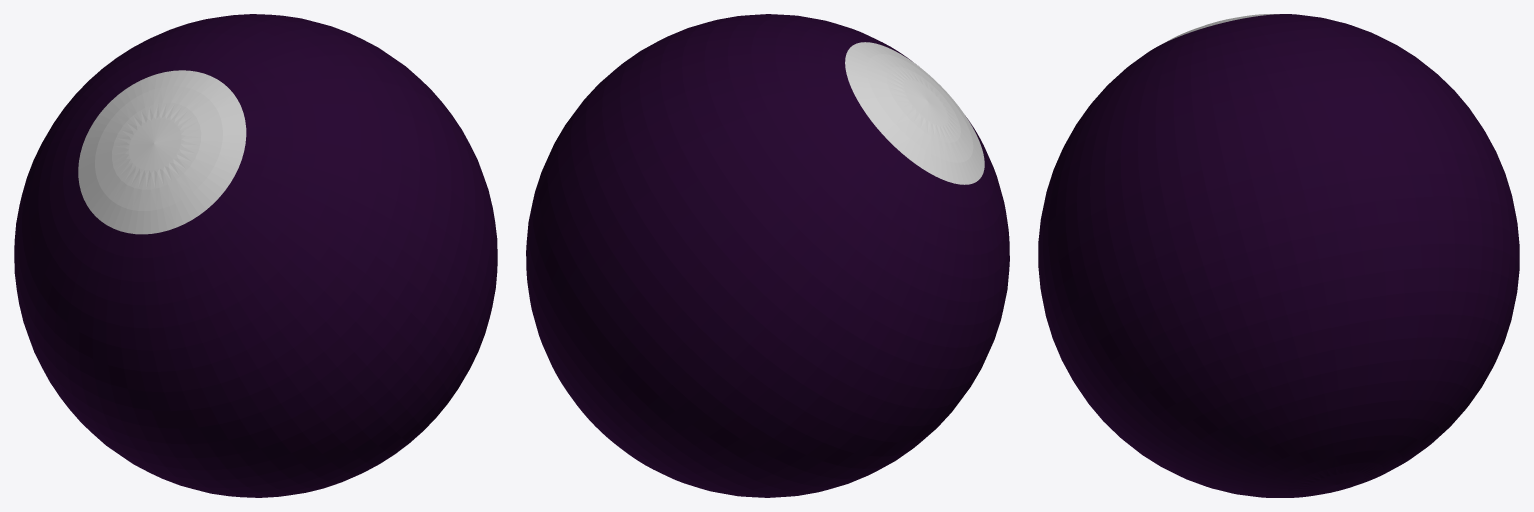
The model's file is 4_ball.obj.
3 views of the same model, side by side, from view 1: azimuth 30°, elevation 25°; view 2: azimuth 150°, elevation 25°; view 3: azimuth 270°, elevation 25° (orthographic).
Parts seen in each view (by area): view 1: Solid.011; view 2: Solid.011; view 3: Solid.011.
Boxes of the visible parts, bbox=[...] form: Solid.011: bbox=[14, 14, 497, 497]; Solid.011: bbox=[526, 14, 1009, 497]; Solid.011: bbox=[1038, 14, 1519, 497].
Size of the model in its own units: 0.0788 by 0.0788 by 0.0785.
